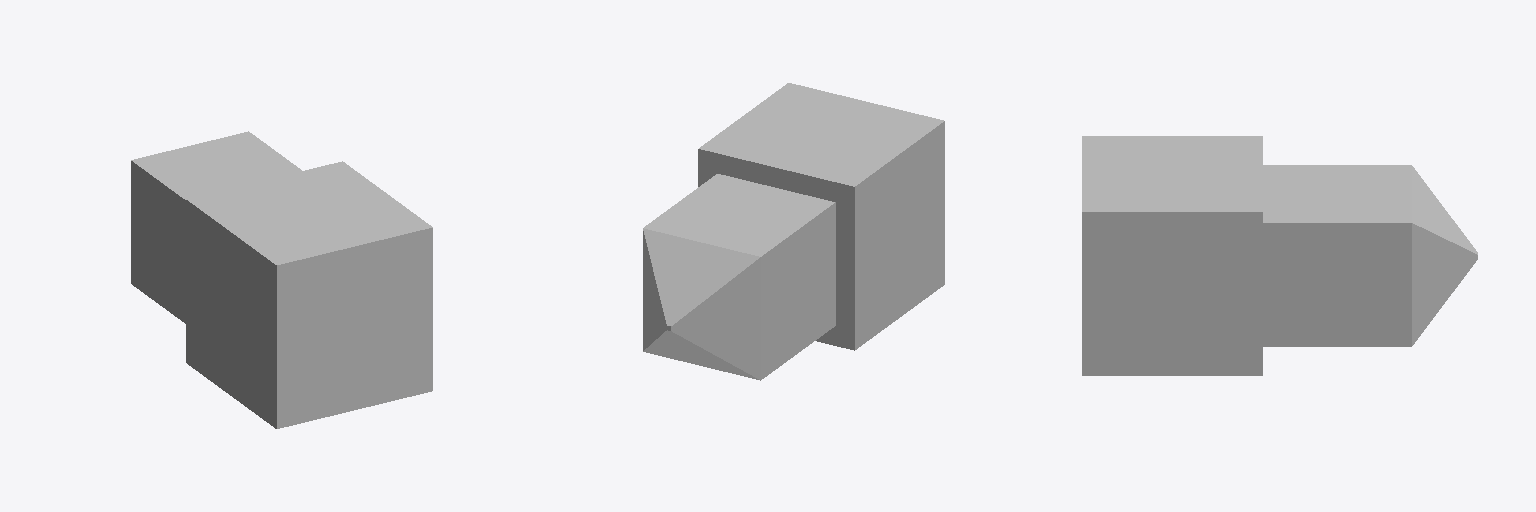
The model's file is floor.obj.
3 views of the same model, side by side, from view 1: azimuth 30°, elevation 25°; view 2: azimuth 150°, elevation 25°; view 3: azimuth 270°, elevation 25° (orthographic).
Parts seen in each view (by area): view 1: Cube; view 2: Cube; view 3: Cube.
Part boxes in pixels (bbox=[...]): Cube: bbox=[131, 131, 432, 428]; Cube: bbox=[643, 83, 944, 380]; Cube: bbox=[1082, 136, 1477, 375].
Bounding box in the file's own units: 2 × 2 × 4.38.